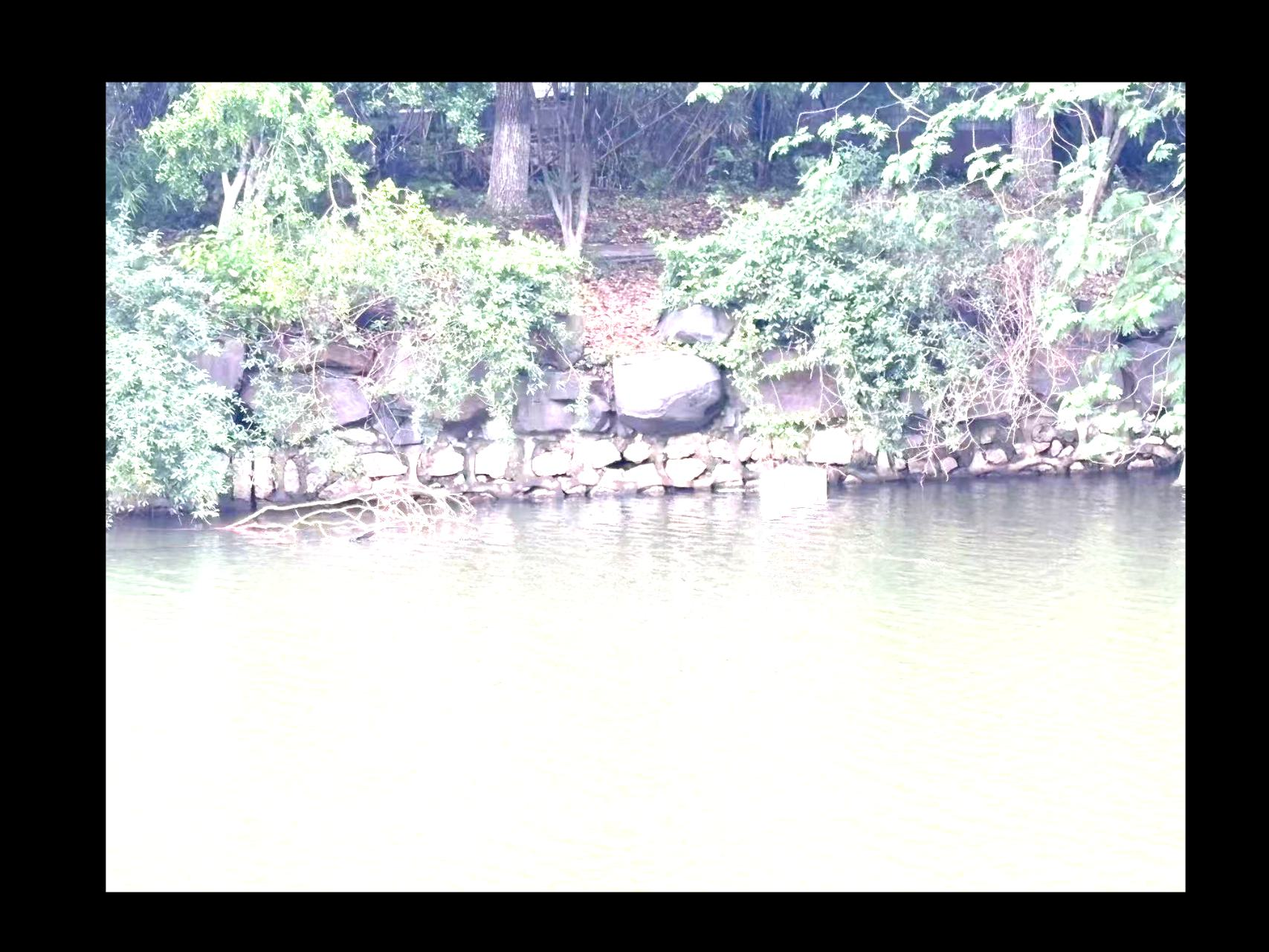Plastic wastes: (756, 459, 828, 506)
